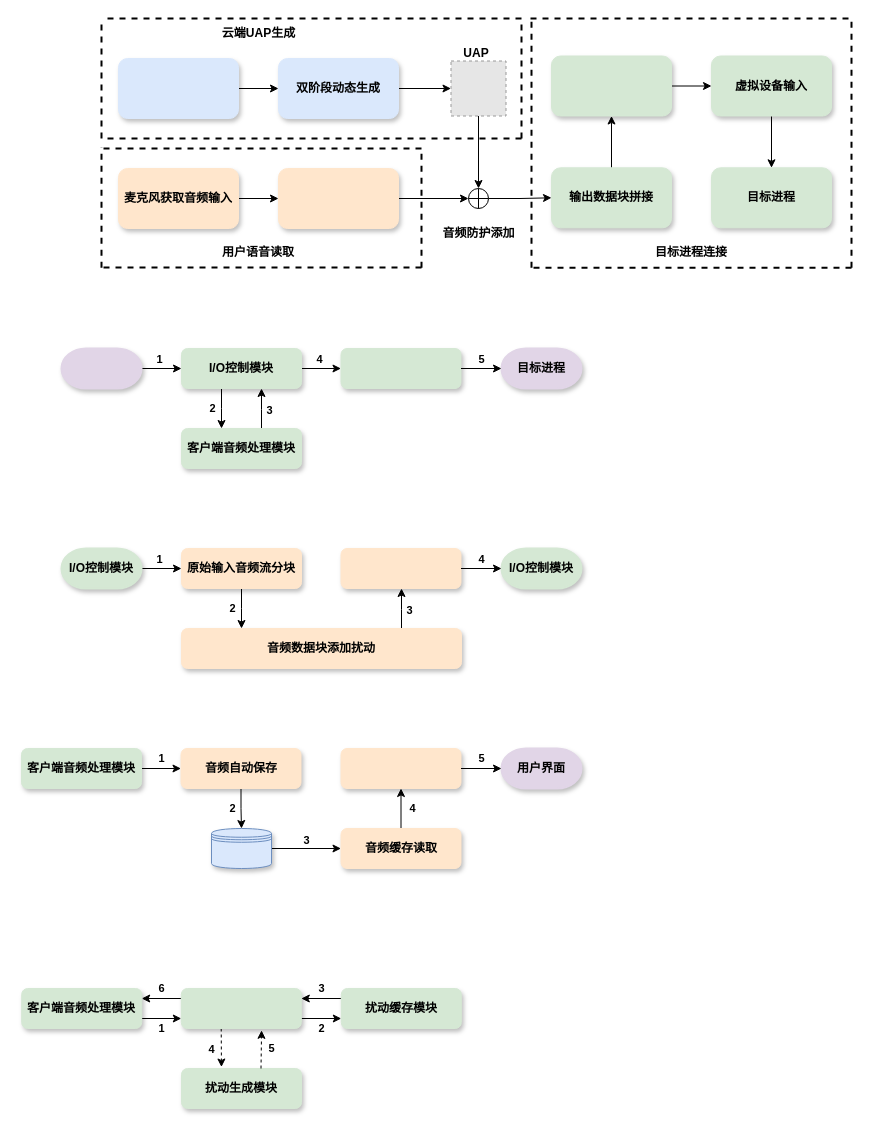
The diagram is 871 pixels wide and 1133 high, and some of its shapes have lost their labels. Grey dashed boxes stand in for pictures. Each missing label, with the centre of its shape:
ASR转录: (x=401, y=770)
对抗音频数据块拼接: (x=401, y=570)
扰动控制模块: (x=241, y=1010)
数据集处理: (x=179, y=90)
用户输入: (x=102, y=369)
缓存: (x=242, y=850)
虚拟设备输出: (x=612, y=87)
进程通信模块: (x=401, y=370)
音频数据流分块: (x=339, y=200)
